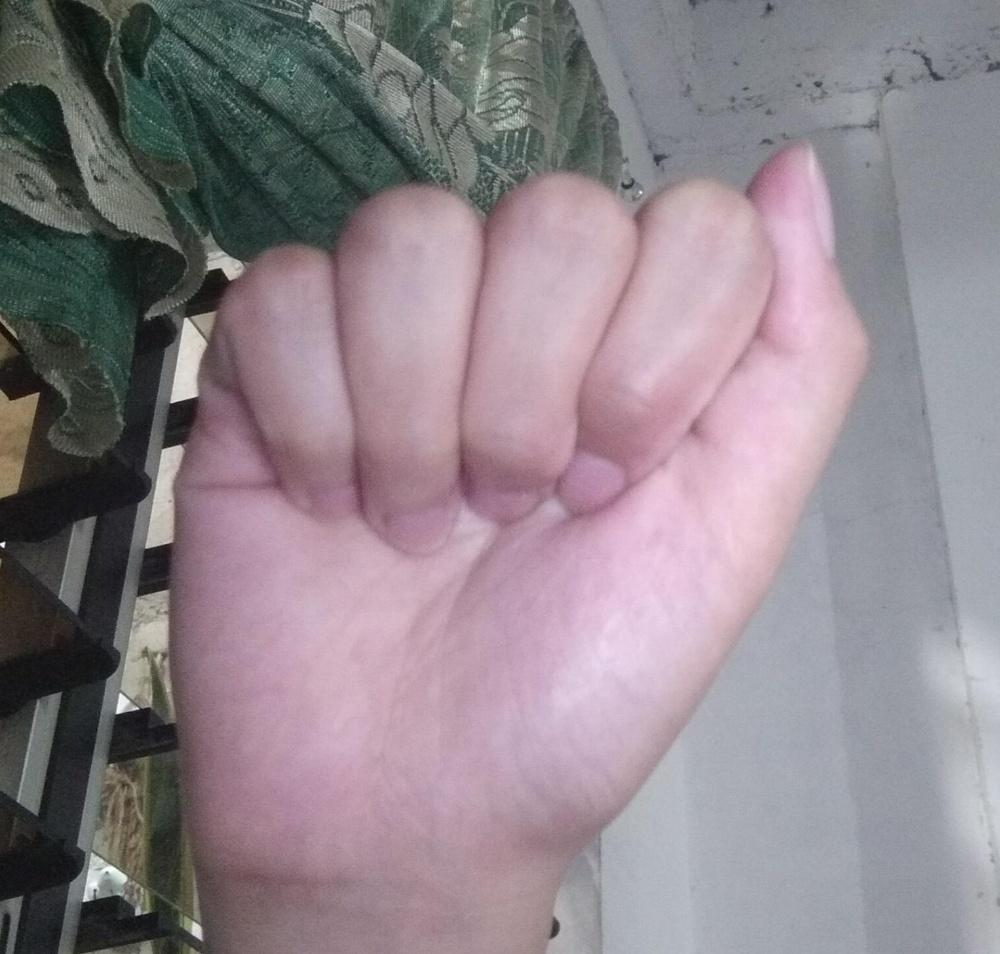a: (165, 132, 871, 876)
